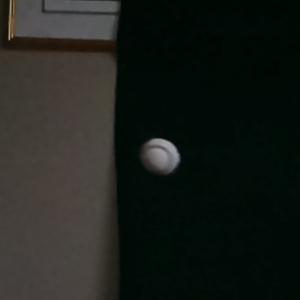ball: (139, 136, 183, 178)
